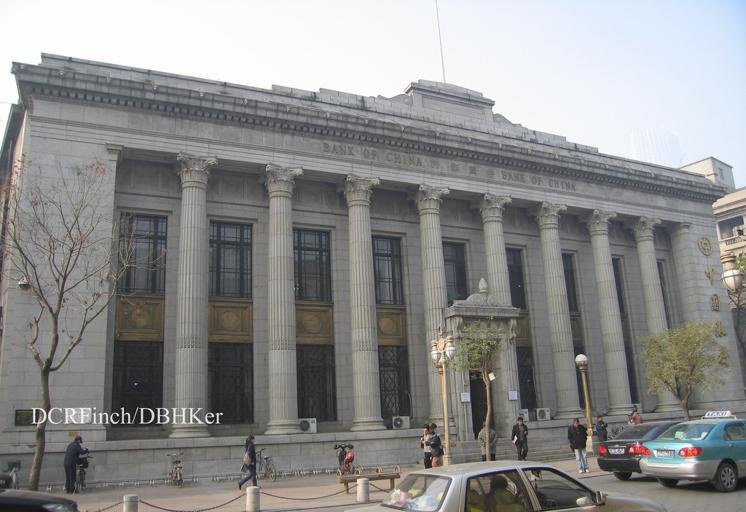non-vehicle: (73, 452, 94, 491), (253, 447, 277, 480), (167, 451, 184, 485), (3, 458, 21, 488)
